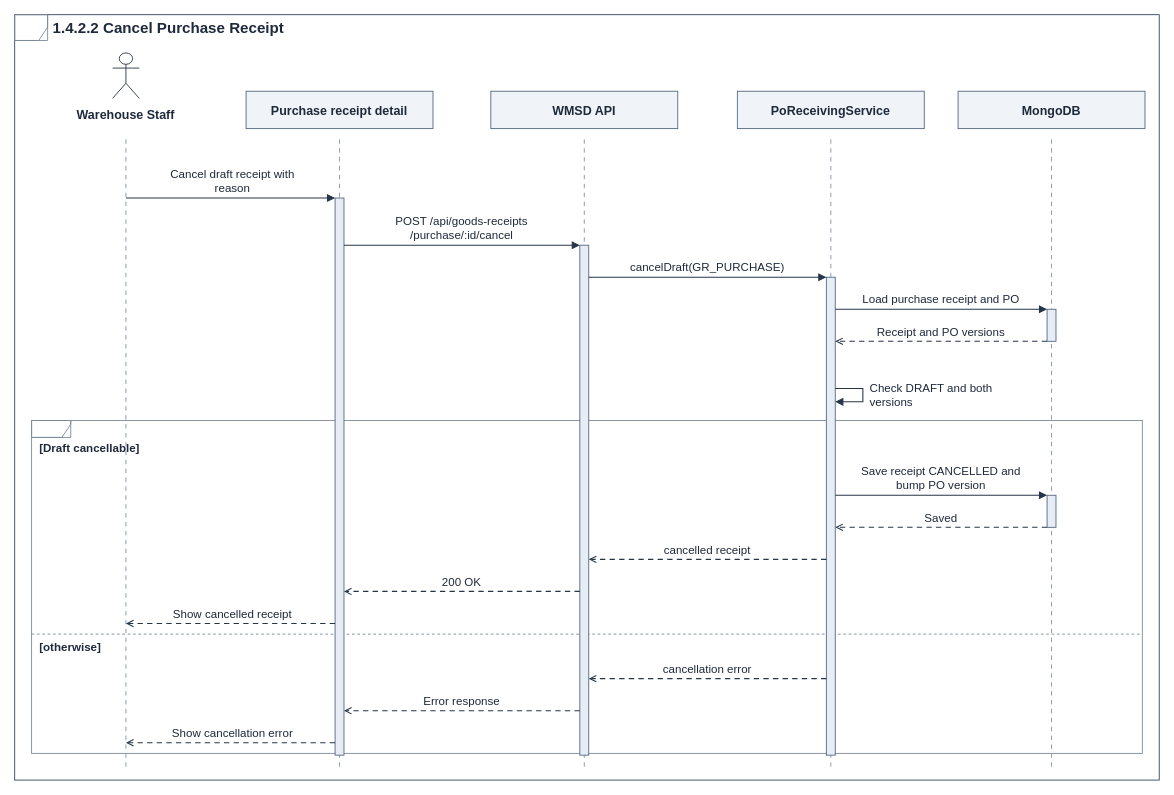
The diagram is 1174 pixels wide and 795 high, and some of its shapes have lost their labels. Each missing label, with the centre of its shape:
"alt" goes at (51,428).
"sd" goes at (31,27).
